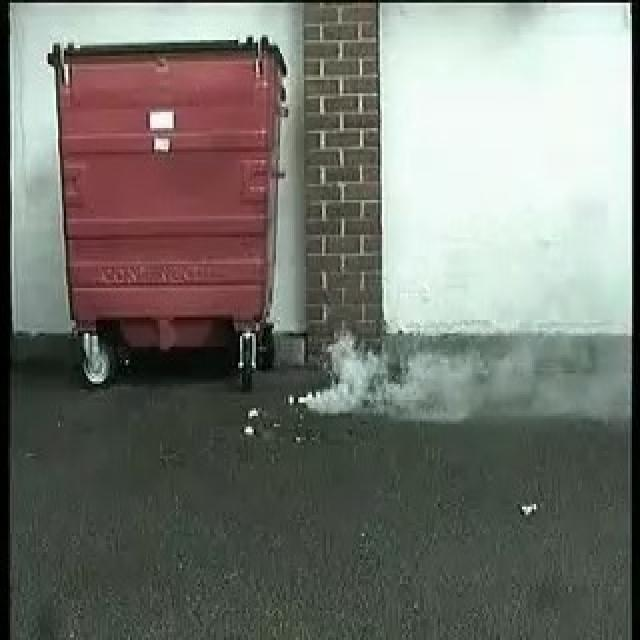Smoke: (308, 314, 492, 412)
